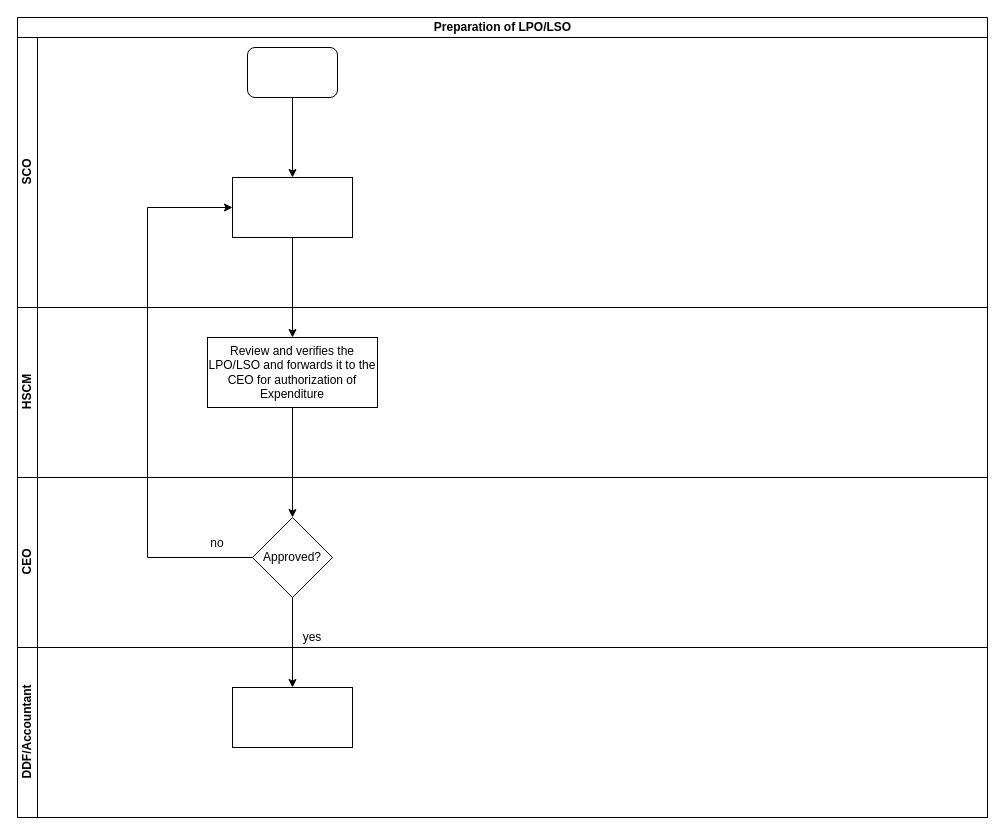
The diagram is 1005 pixels wide and 835 high, and some of its shapes have lost their labels. The shapes that lost their labels are listed below. From the top down, each one's centre as x and y in pixels, then its label:
the point at 292,72: Start
the point at 292,207: Preparation of LSO/LPO
the point at 292,717: Posting and updating of the ledger
